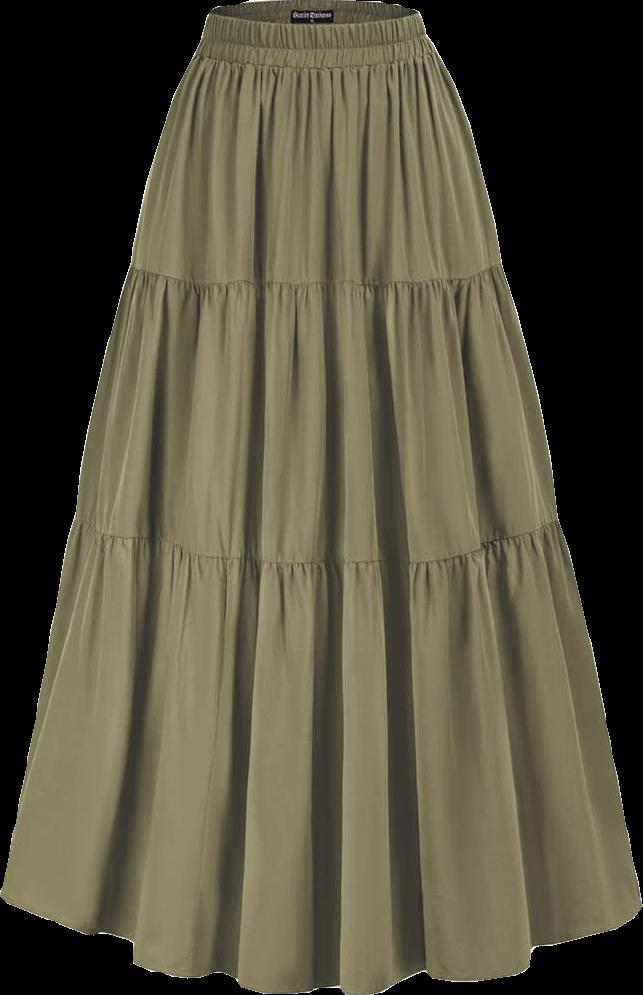Hemline: (0, 887, 642, 994)
Waistline: (63, 511, 562, 572), (123, 259, 504, 291), (203, 5, 422, 34)
